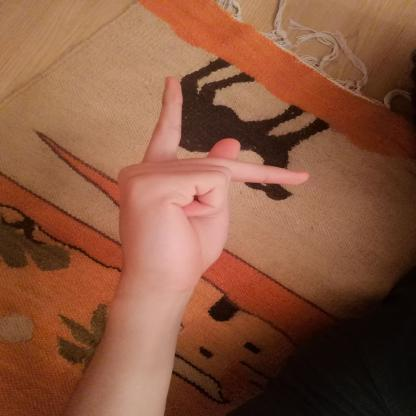DHAA: (103, 68, 328, 292)
